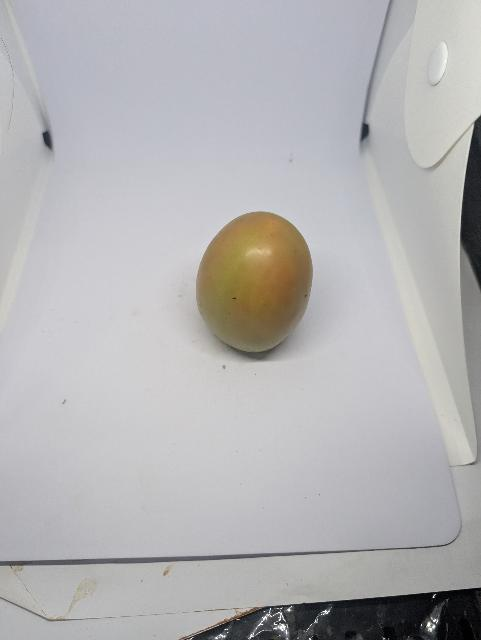breaker: (193, 209, 321, 359)
